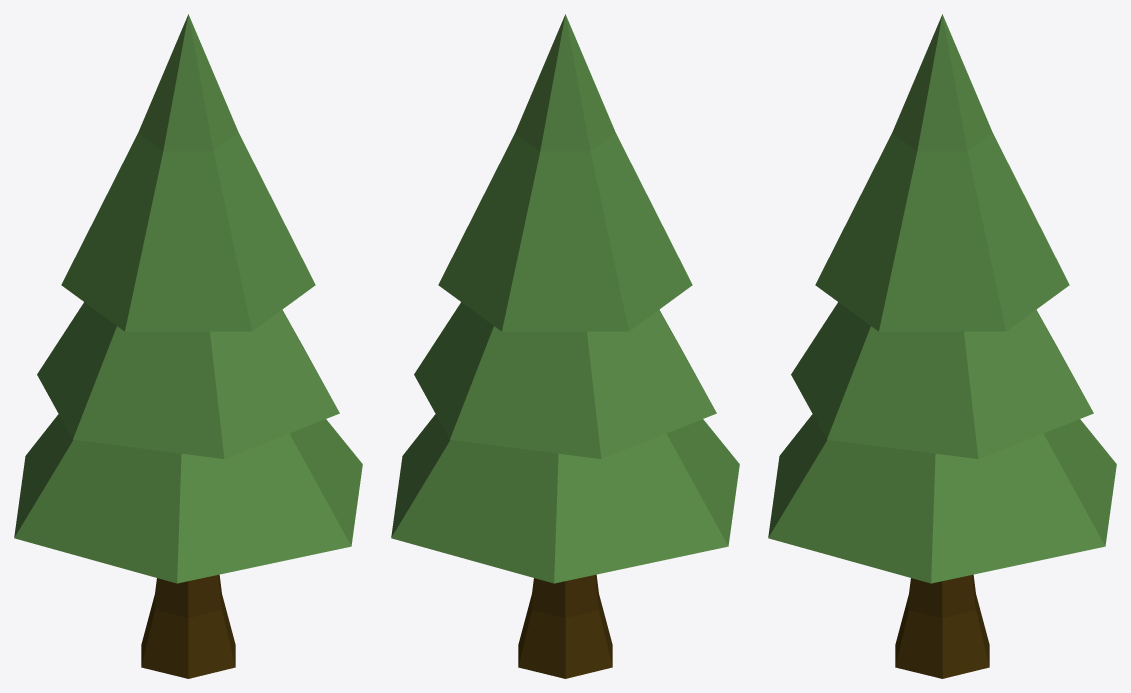
File: Tree_3.fbx
The picture shows the model from 3 angles, left to right: view 1: azimuth 30°, elevation 25°; view 2: azimuth 150°, elevation 25°; view 3: azimuth 270°, elevation 25°; orthographic projection.
Parts seen in each view (by area): view 1: Tree_3; view 2: Tree_3; view 3: Tree_3.
Boxes of the visible parts, box(x1,y1,x2,y2) form: Tree_3: box(14, 14, 362, 678); Tree_3: box(391, 14, 739, 678); Tree_3: box(768, 14, 1116, 678).
Bounding box in the file's own units: 7.17 × 13.03 × 6.42.
